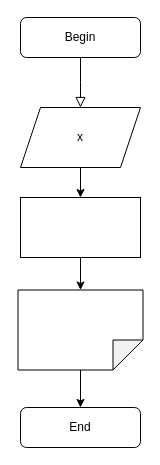
This 160x465 diagram has some shape labels left out. The box of each missing label's shape, as (x1, y1, x2, y2) in pixels:
Output x: (17, 289, 143, 370)
S = x * x: (20, 196, 140, 258)
